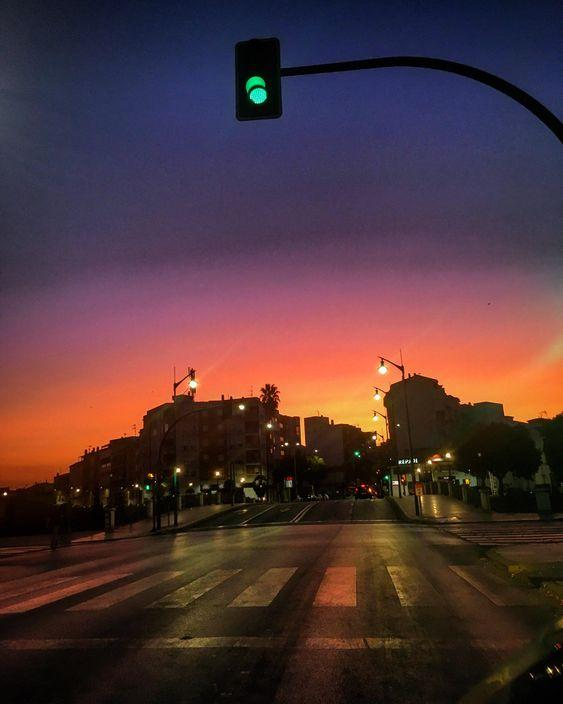Traffic light green: (233, 35, 287, 120)
